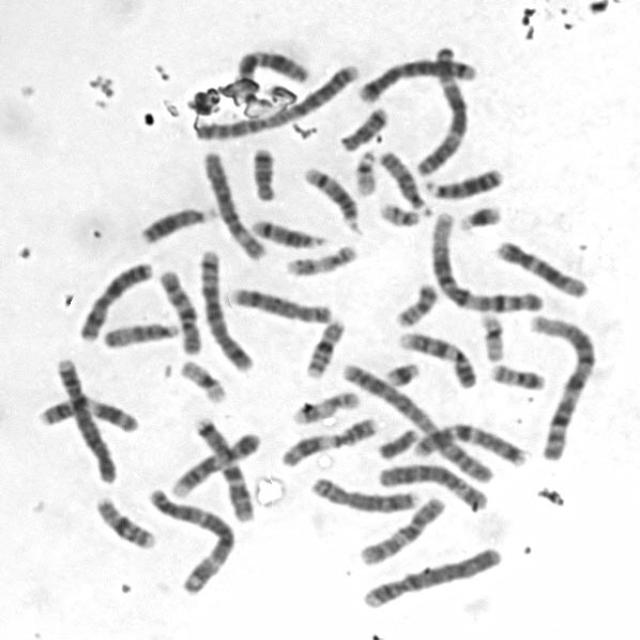A1: (424, 204, 547, 316), (524, 310, 600, 463)
A2: (335, 355, 498, 486), (189, 59, 362, 142)
A3: (142, 482, 239, 595), (410, 42, 473, 178)
B4: (356, 540, 506, 611), (51, 353, 120, 484)
B5: (193, 244, 256, 373), (353, 52, 482, 104)
C10: (354, 490, 451, 568), (154, 264, 205, 356)
C11: (276, 411, 381, 468), (35, 391, 142, 434)
C12: (490, 234, 592, 300), (234, 46, 312, 88)
C6: (198, 145, 270, 262), (372, 457, 492, 514)
C7: (188, 411, 257, 523), (408, 418, 528, 467)
C8: (306, 472, 423, 514), (225, 282, 335, 326)
C9: (167, 425, 265, 499), (393, 326, 478, 390)
D13: (136, 200, 219, 245), (421, 162, 506, 200)
D14: (300, 161, 362, 231), (246, 213, 328, 250)
D15: (374, 146, 434, 216), (98, 316, 183, 350)
E16: (90, 491, 158, 551), (300, 313, 348, 380)
E17: (280, 239, 360, 278), (287, 385, 363, 426)
E18: (335, 101, 391, 152), (248, 142, 280, 203)
F19: (174, 355, 229, 405), (474, 307, 508, 363)
F20: (391, 278, 441, 328), (485, 358, 547, 392)
G21: (453, 198, 505, 233), (380, 356, 423, 388)
G22: (349, 145, 380, 197), (374, 198, 422, 228)
X: (73, 254, 155, 344)
Y: (374, 422, 422, 461)
